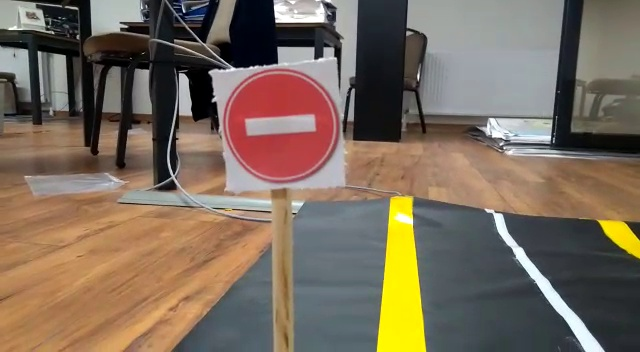girisi_olmayan_yol: (220, 64, 342, 190)
